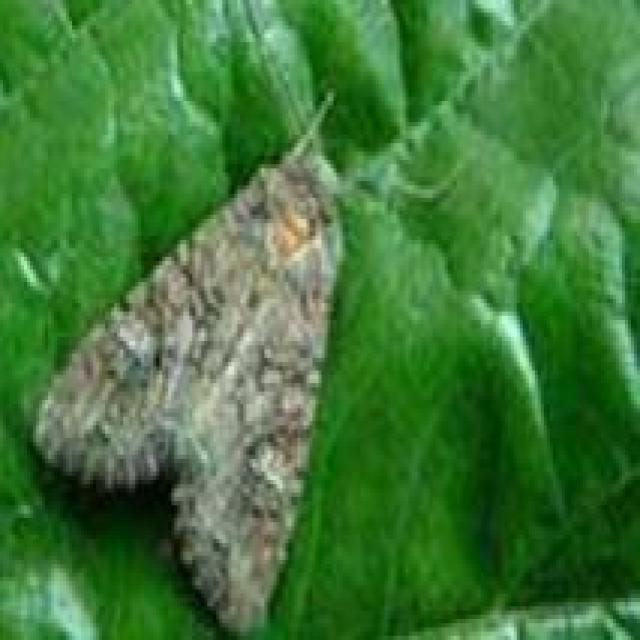armyworm: (24, 83, 377, 640)
